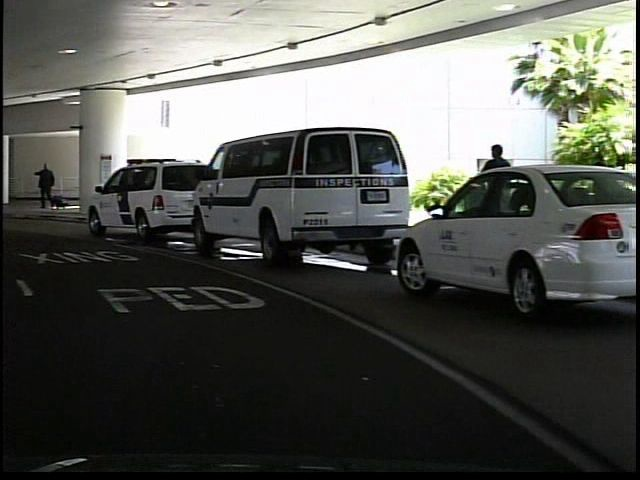person: (473, 139, 512, 256), (31, 156, 58, 216)
